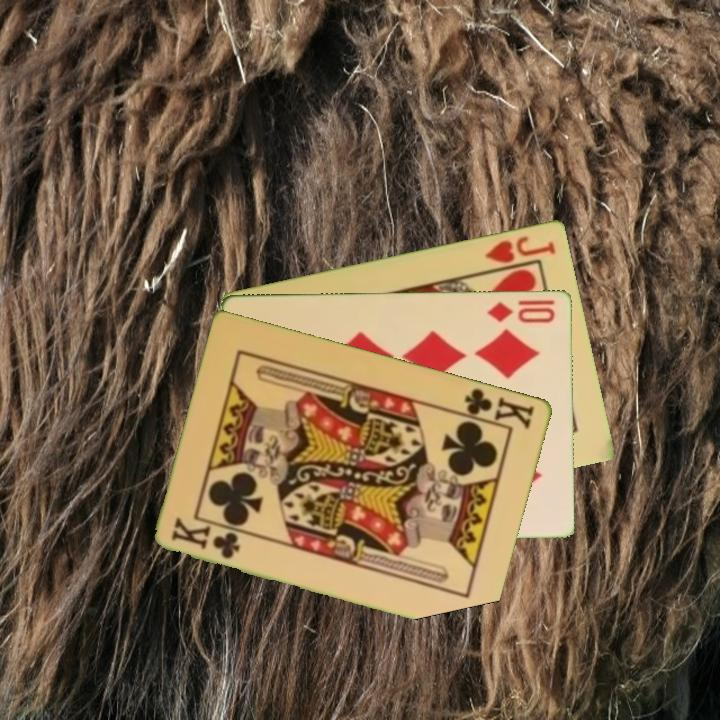10d: (484, 296, 559, 325)
Jh: (478, 231, 559, 274)
Kc: (454, 384, 538, 433), (168, 514, 244, 562)
